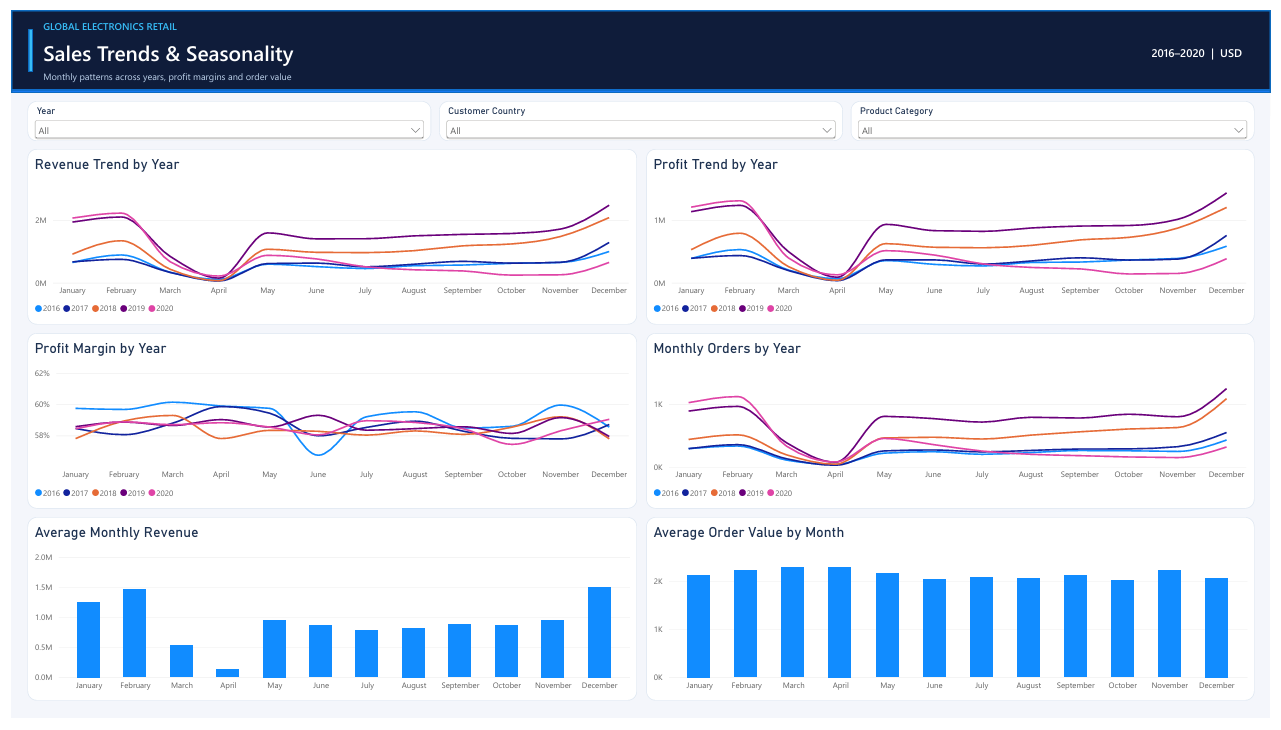

The dashboard page shown, as its layout file describes it:
{"tool":"powerbi","page":{"name":"Sales Trends & Seasonality","canvas":[1920,1080],"ordinal":1},"visuals":[{"type":"shape","box":[0,0,1920,121],"z":0},{"type":"clusteredColumnChart","title":"Average Monthly Revenue","fields":{"Category":["DimDate.Month Name"],"Y":["public sales.Average Annual Monthly Revenue"]},"box":[24,773,930,280],"z":1000},{"type":"shape","box":[0,121,1920,4],"z":2000},{"type":"shape","box":[26,28,6,65],"z":3000},{"type":"lineChart","title":"Revenue Trend by Year","fields":{"Category":["DimDate.Month Name"],"Series":["DimDate.Year"],"Y":["public sales.Total Revenue"]},"box":[24,211,930,268],"z":4000},{"type":"lineChart","title":"Profit Trend by Year","fields":{"Category":["DimDate.Month Name"],"Series":["DimDate.Year"],"Y":["public sales.Total Profit"]},"box":[968,211,928,268],"z":5000},{"type":"lineChart","title":"Profit Margin by Year","fields":{"Category":["DimDate.Month Name"],"Series":["DimDate.Year"],"Y":["public sales.Profit Margin %"]},"box":[24,492,930,268],"z":6000},{"type":"lineChart","title":"Monthly Orders by Year","fields":{"Category":["DimDate.Month Name"],"Series":["DimDate.Year"],"Y":["public sales.Total Orders"]},"box":[968,492,928,268],"z":7000},{"type":"columnChart","title":"Average Order Value by Month","fields":{"Category":["DimDate.Month Name"],"Y":["public sales.Average Order Value"]},"box":[968,773,928,280],"z":8000},{"type":"slicer","fields":{"Values":["DimDate.Year"]},"box":[24,138,616,61],"z":9000},{"type":"slicer","fields":{"Values":["public customers.country"]},"box":[652,138,616,61],"z":10000},{"type":"slicer","fields":{"Values":["public products.category"]},"box":[1280,138,616,61],"z":11000},{"type":"textbox","box":[48,13,1330,27],"z":12000},{"type":"textbox","box":[48,42,1450,43],"z":13000},{"type":"textbox","box":[48,91,1330,25],"z":14000},{"type":"textbox","box":[1545,52,332,43],"z":15000},{"type":"textbox","box":[26,1057,1840,22],"z":16000}]}

Visuals, with their boxes in screenshot pixels (x1, y1, x2, y2), scaled from the page's 1920x1080 canvas onto the 1281x730 screenshot:
shape: {"left": 0, "top": 0, "right": 1280, "bottom": 82}
"Average Monthly Revenue" clusteredColumnChart: {"left": 16, "top": 522, "right": 636, "bottom": 712}
shape: {"left": 0, "top": 82, "right": 1280, "bottom": 84}
shape: {"left": 17, "top": 19, "right": 21, "bottom": 63}
"Revenue Trend by Year" lineChart: {"left": 16, "top": 143, "right": 636, "bottom": 324}
"Profit Trend by Year" lineChart: {"left": 646, "top": 143, "right": 1265, "bottom": 324}
"Profit Margin by Year" lineChart: {"left": 16, "top": 333, "right": 636, "bottom": 514}
"Monthly Orders by Year" lineChart: {"left": 646, "top": 333, "right": 1265, "bottom": 514}
"Average Order Value by Month" columnChart: {"left": 646, "top": 522, "right": 1265, "bottom": 712}
slicer - DimDate.Year: {"left": 16, "top": 93, "right": 427, "bottom": 135}
slicer - public customers.country: {"left": 435, "top": 93, "right": 846, "bottom": 135}
slicer - public products.category: {"left": 854, "top": 93, "right": 1265, "bottom": 135}
textbox: {"left": 32, "top": 9, "right": 919, "bottom": 27}
textbox: {"left": 32, "top": 28, "right": 999, "bottom": 57}
textbox: {"left": 32, "top": 62, "right": 919, "bottom": 78}
textbox: {"left": 1031, "top": 35, "right": 1252, "bottom": 64}
textbox: {"left": 17, "top": 714, "right": 1245, "bottom": 729}
